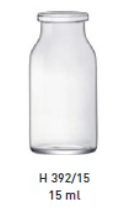glass_bottle: (25, 8, 100, 160)
